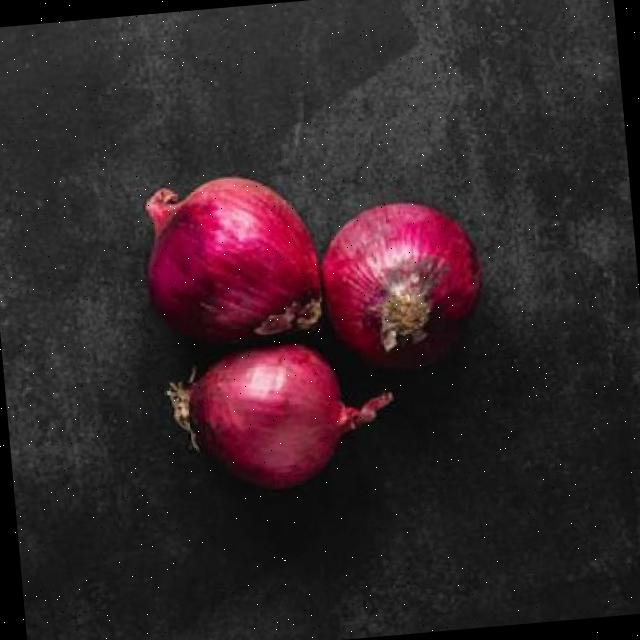Onion: (167, 345, 393, 490), (146, 177, 320, 342), (321, 202, 481, 368)
